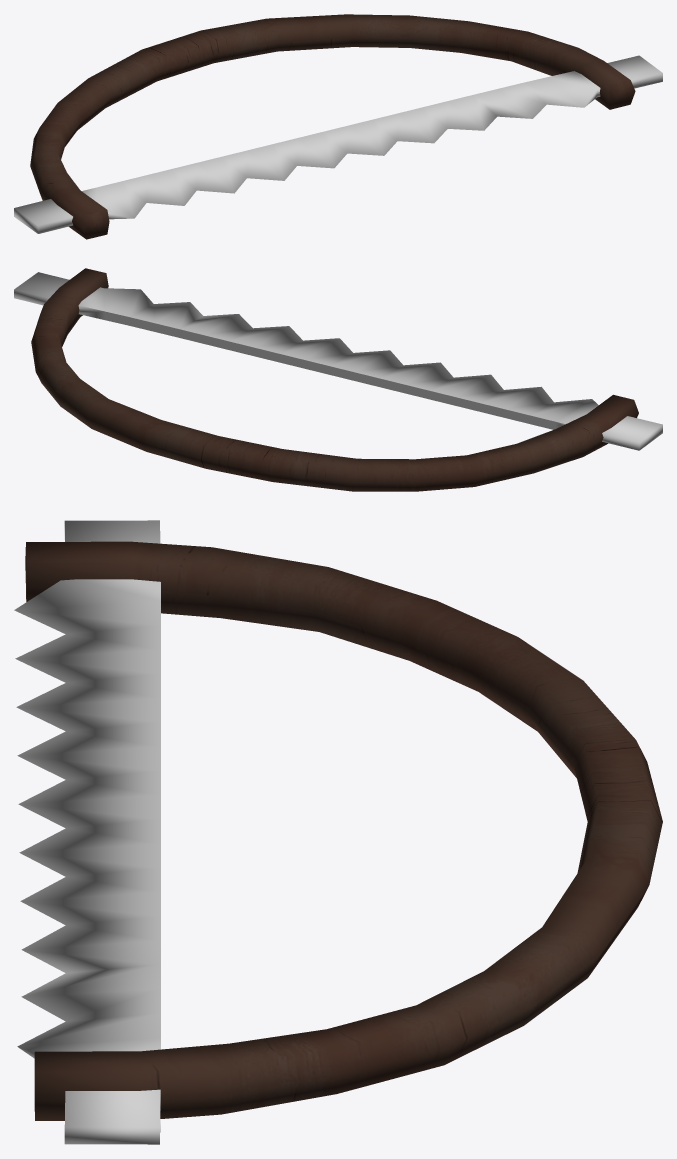
Rendered from Torture_Saw.fbx.
The picture shows the model from 3 angles, top to bottom: view 1: azimuth 30°, elevation 25°; view 2: azimuth 150°, elevation 25°; view 3: azimuth 270°, elevation 25°; orthographic projection. The views are drawn at different scales.
Parts seen in each view (by area): view 1: Torture_Saw; view 2: Torture_Saw; view 3: Torture_Saw.
Part boxes in pixels (<box>): Torture_Saw: <box>14,14,662,239</box>; Torture_Saw: <box>14,268,662,491</box>; Torture_Saw: <box>14,520,662,1144</box>.
Size of the model in its own units: 2.11 by 0.0918 by 0.9558.
